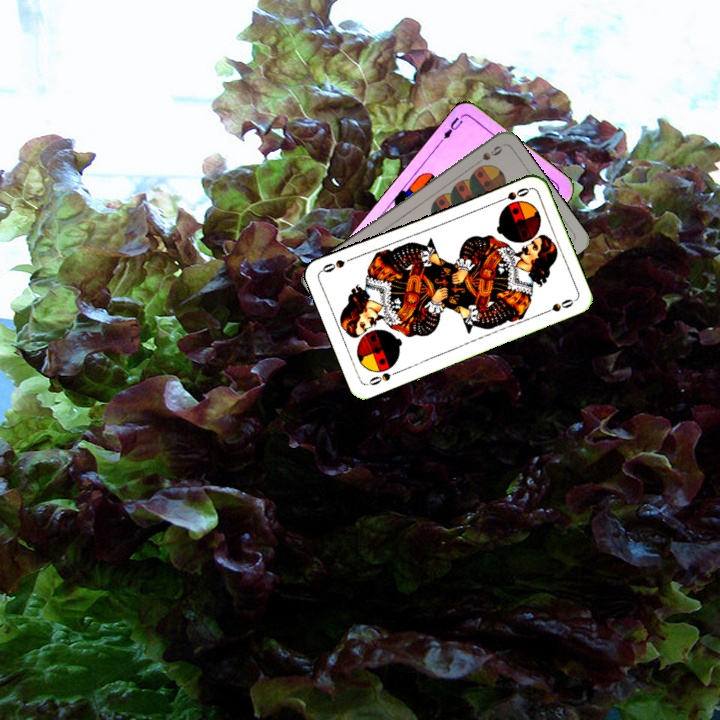EU: (436, 111, 467, 145)
S9: (468, 142, 505, 170)
SO: (363, 363, 402, 388), (493, 184, 532, 205)
